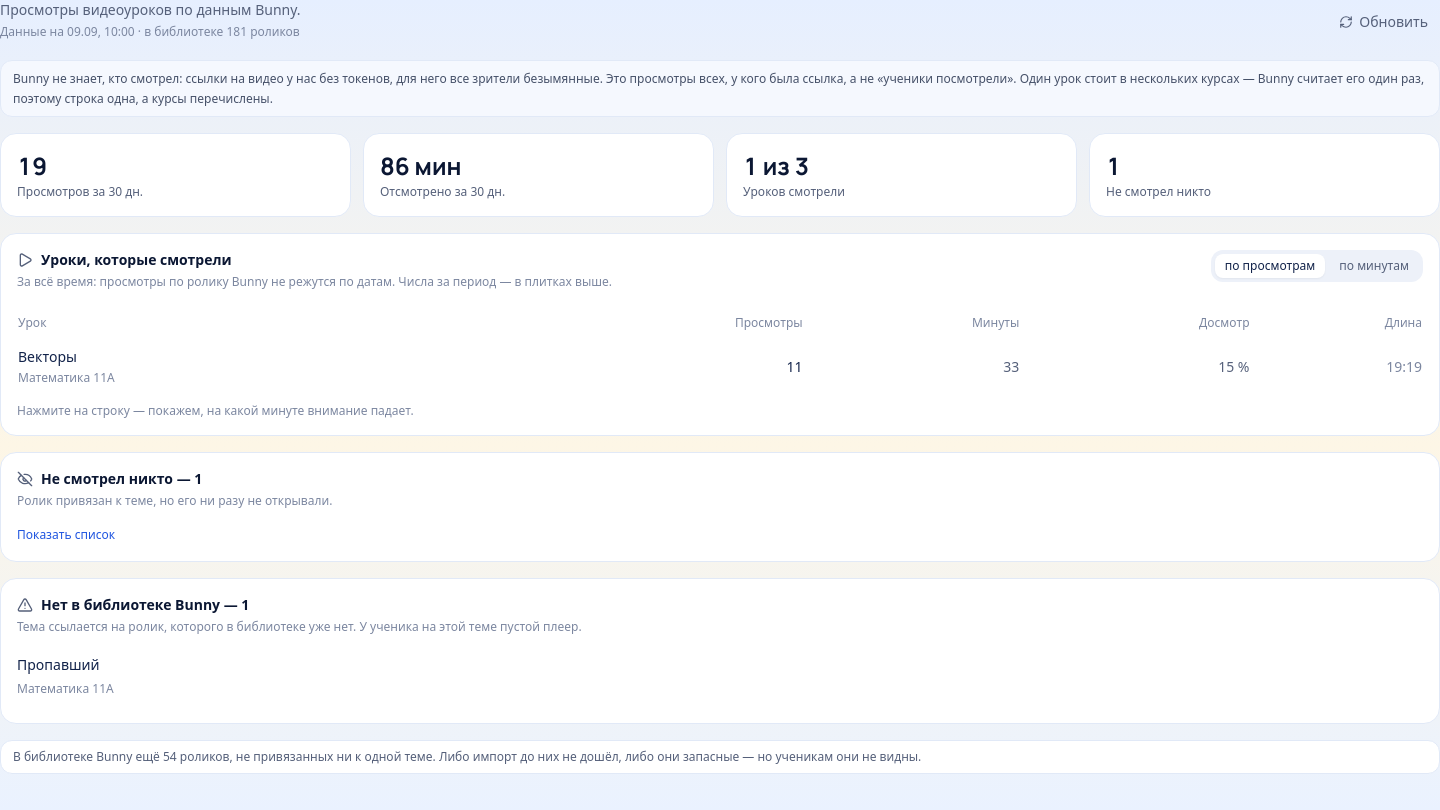
Test: вкладка «Видео» › «не смотрел никто» и «нет в библиотеке» разведены по блокам
The width and height of the screenshot is (1440, 810).
Check: the heading "Не смотрел никто — 1" is shown, box [41,469,202,489]
Check: the heading "Нет в библиотеке Bunny — 1" is shown, box [41,595,249,615]
Click the button "Показать список": click(66, 535) [17,527,115,543]
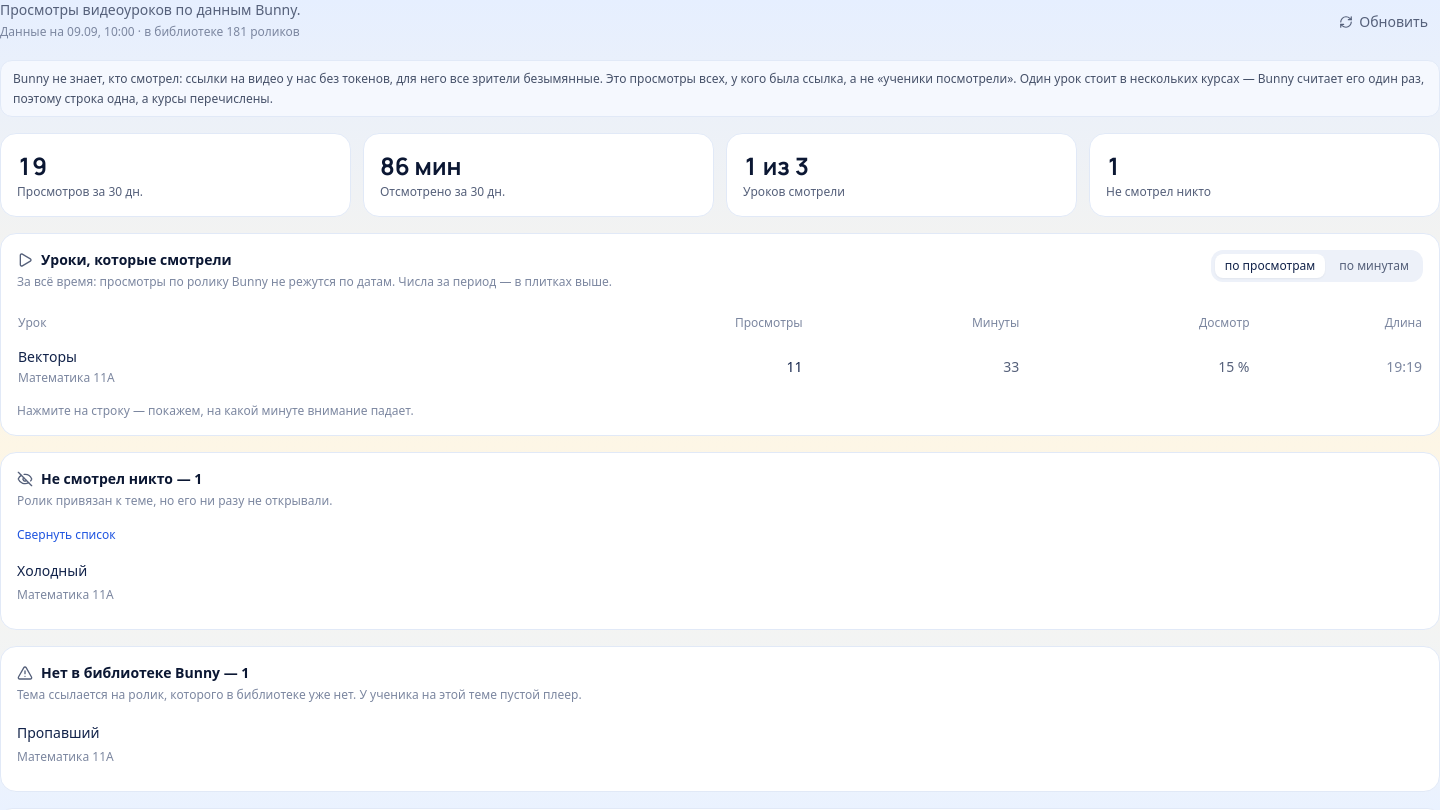
Check: the list with test id "video-untouched-list" does not show "Пропавший", box [17,561,114,603]
Check: the list with test id "video-untouched-list" shows "Холодный", box [17,561,87,580]
